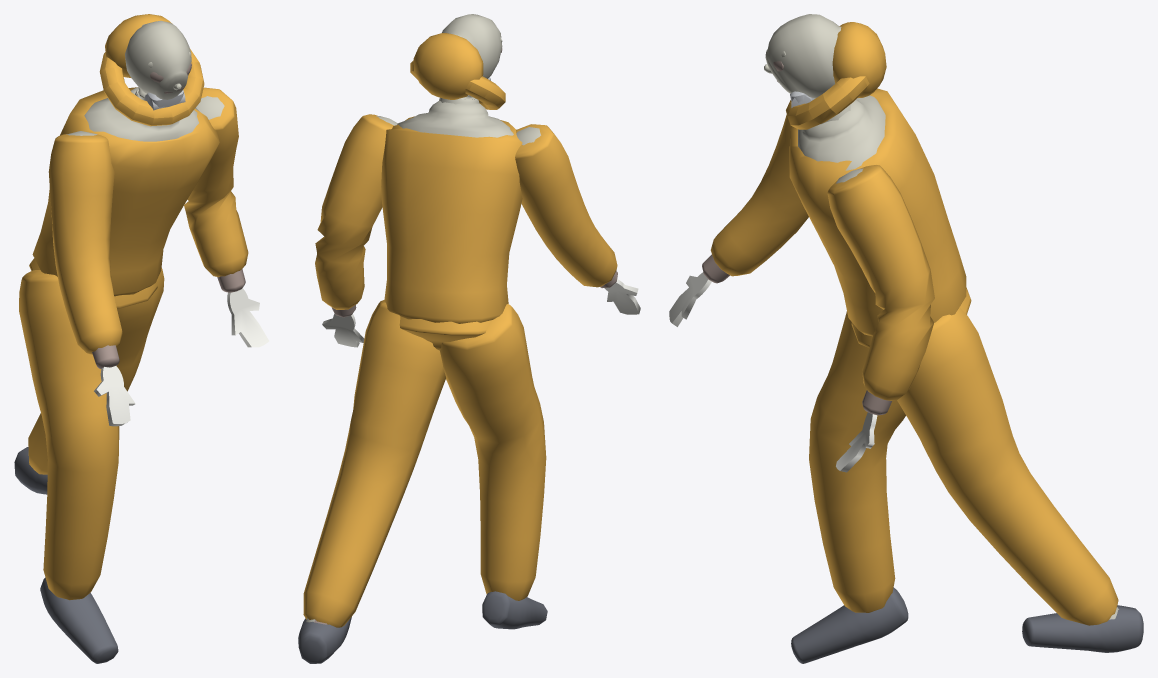
File: undead-horde-and-infected-variants-walker-hazmat-crew-69a5fb45__11987.glb
The picture shows the model from 3 angles, left to right: view 1: azimuth 30°, elevation 25°; view 2: azimuth 150°, elevation 25°; view 3: azimuth 270°, elevation 25°; orthographic projection. The views are drawn at different scales.
Visible parts, largest first — view 1: walker-hazmat-crew; view 2: walker-hazmat-crew; view 3: walker-hazmat-crew.
Part boxes in pixels (left/top/right/bottom): walker-hazmat-crew: left=14, top=14, right=269, bottom=663; walker-hazmat-crew: left=298, top=14, right=640, bottom=663; walker-hazmat-crew: left=669, top=14, right=1143, bottom=663.
Bounding box in the file's own units: 0.7233 × 1.74 × 1.11.
